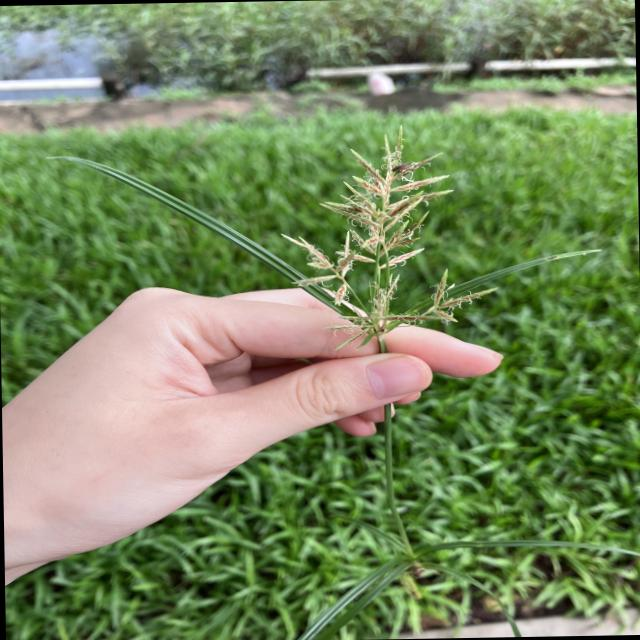cyperus: (266, 116, 504, 357)
